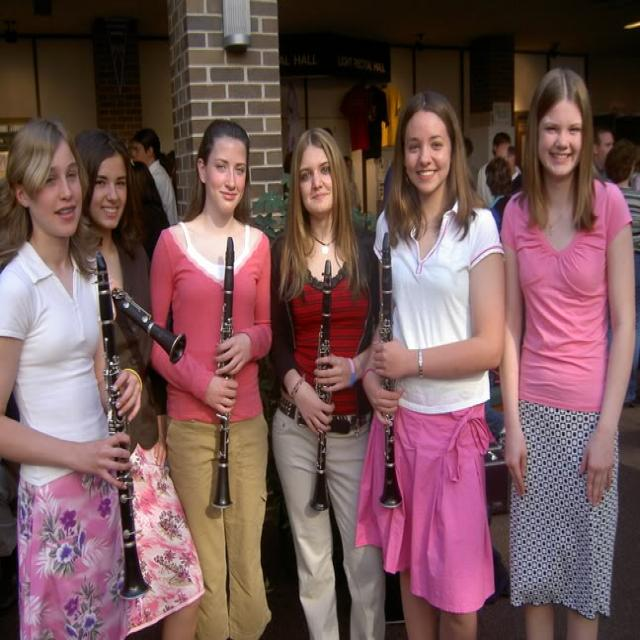clarinet: (95, 252, 155, 600), (208, 233, 237, 512), (378, 238, 404, 511), (309, 258, 334, 515)
